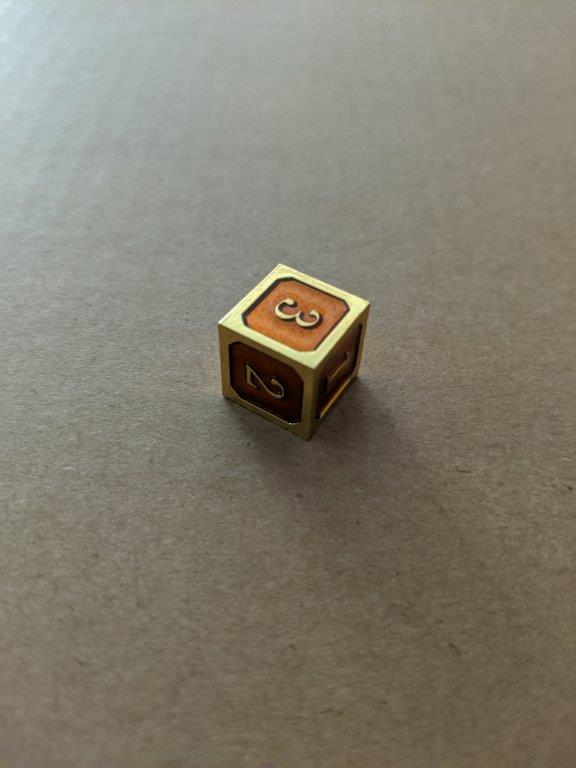d6-3: (217, 261, 373, 440)
